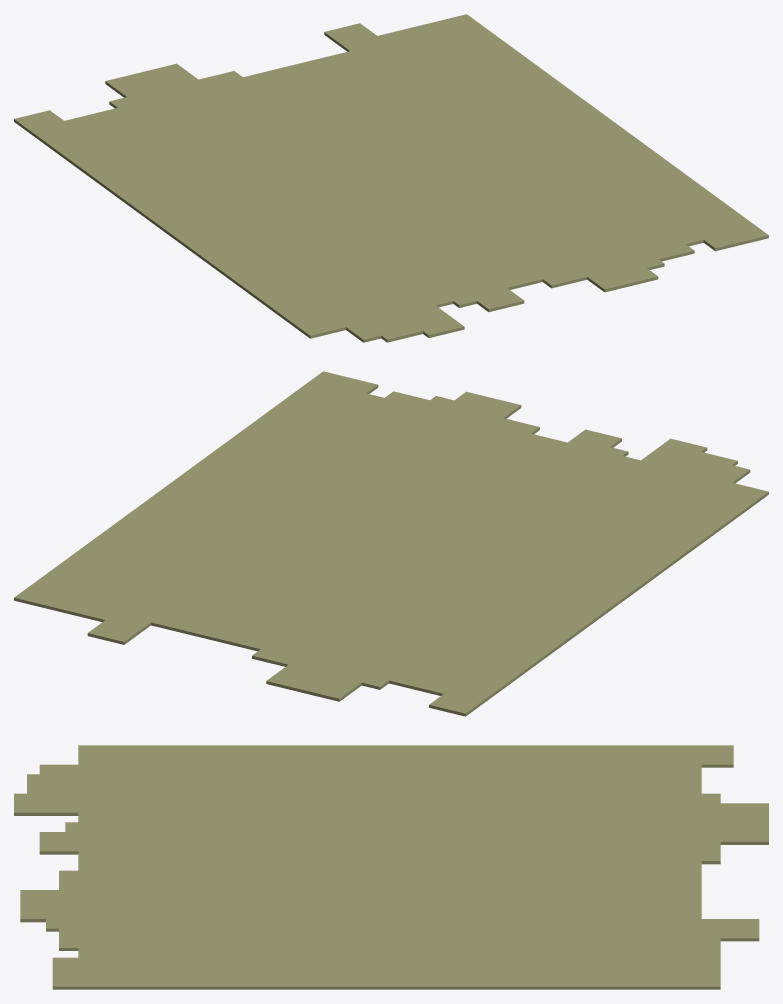
Rendered from woodenfloor1_lp.fbx.
3 renders of one model, top to bottom at view 1: azimuth 30°, elevation 25°; view 2: azimuth 150°, elevation 25°; view 3: azimuth 270°, elevation 25°, orthographic. The views are drawn at different scales.
Parts seen in each view (by area): view 1: woodenfloor1_LP; view 2: woodenfloor1_LP; view 3: woodenfloor1_LP.
Part boxes in pixels (<box>): woodenfloor1_LP: <box>14,14,768,342</box>; woodenfloor1_LP: <box>14,371,768,716</box>; woodenfloor1_LP: <box>14,745,768,989</box>.
Size of the model in its own units: 806 by 5 by 1067.
